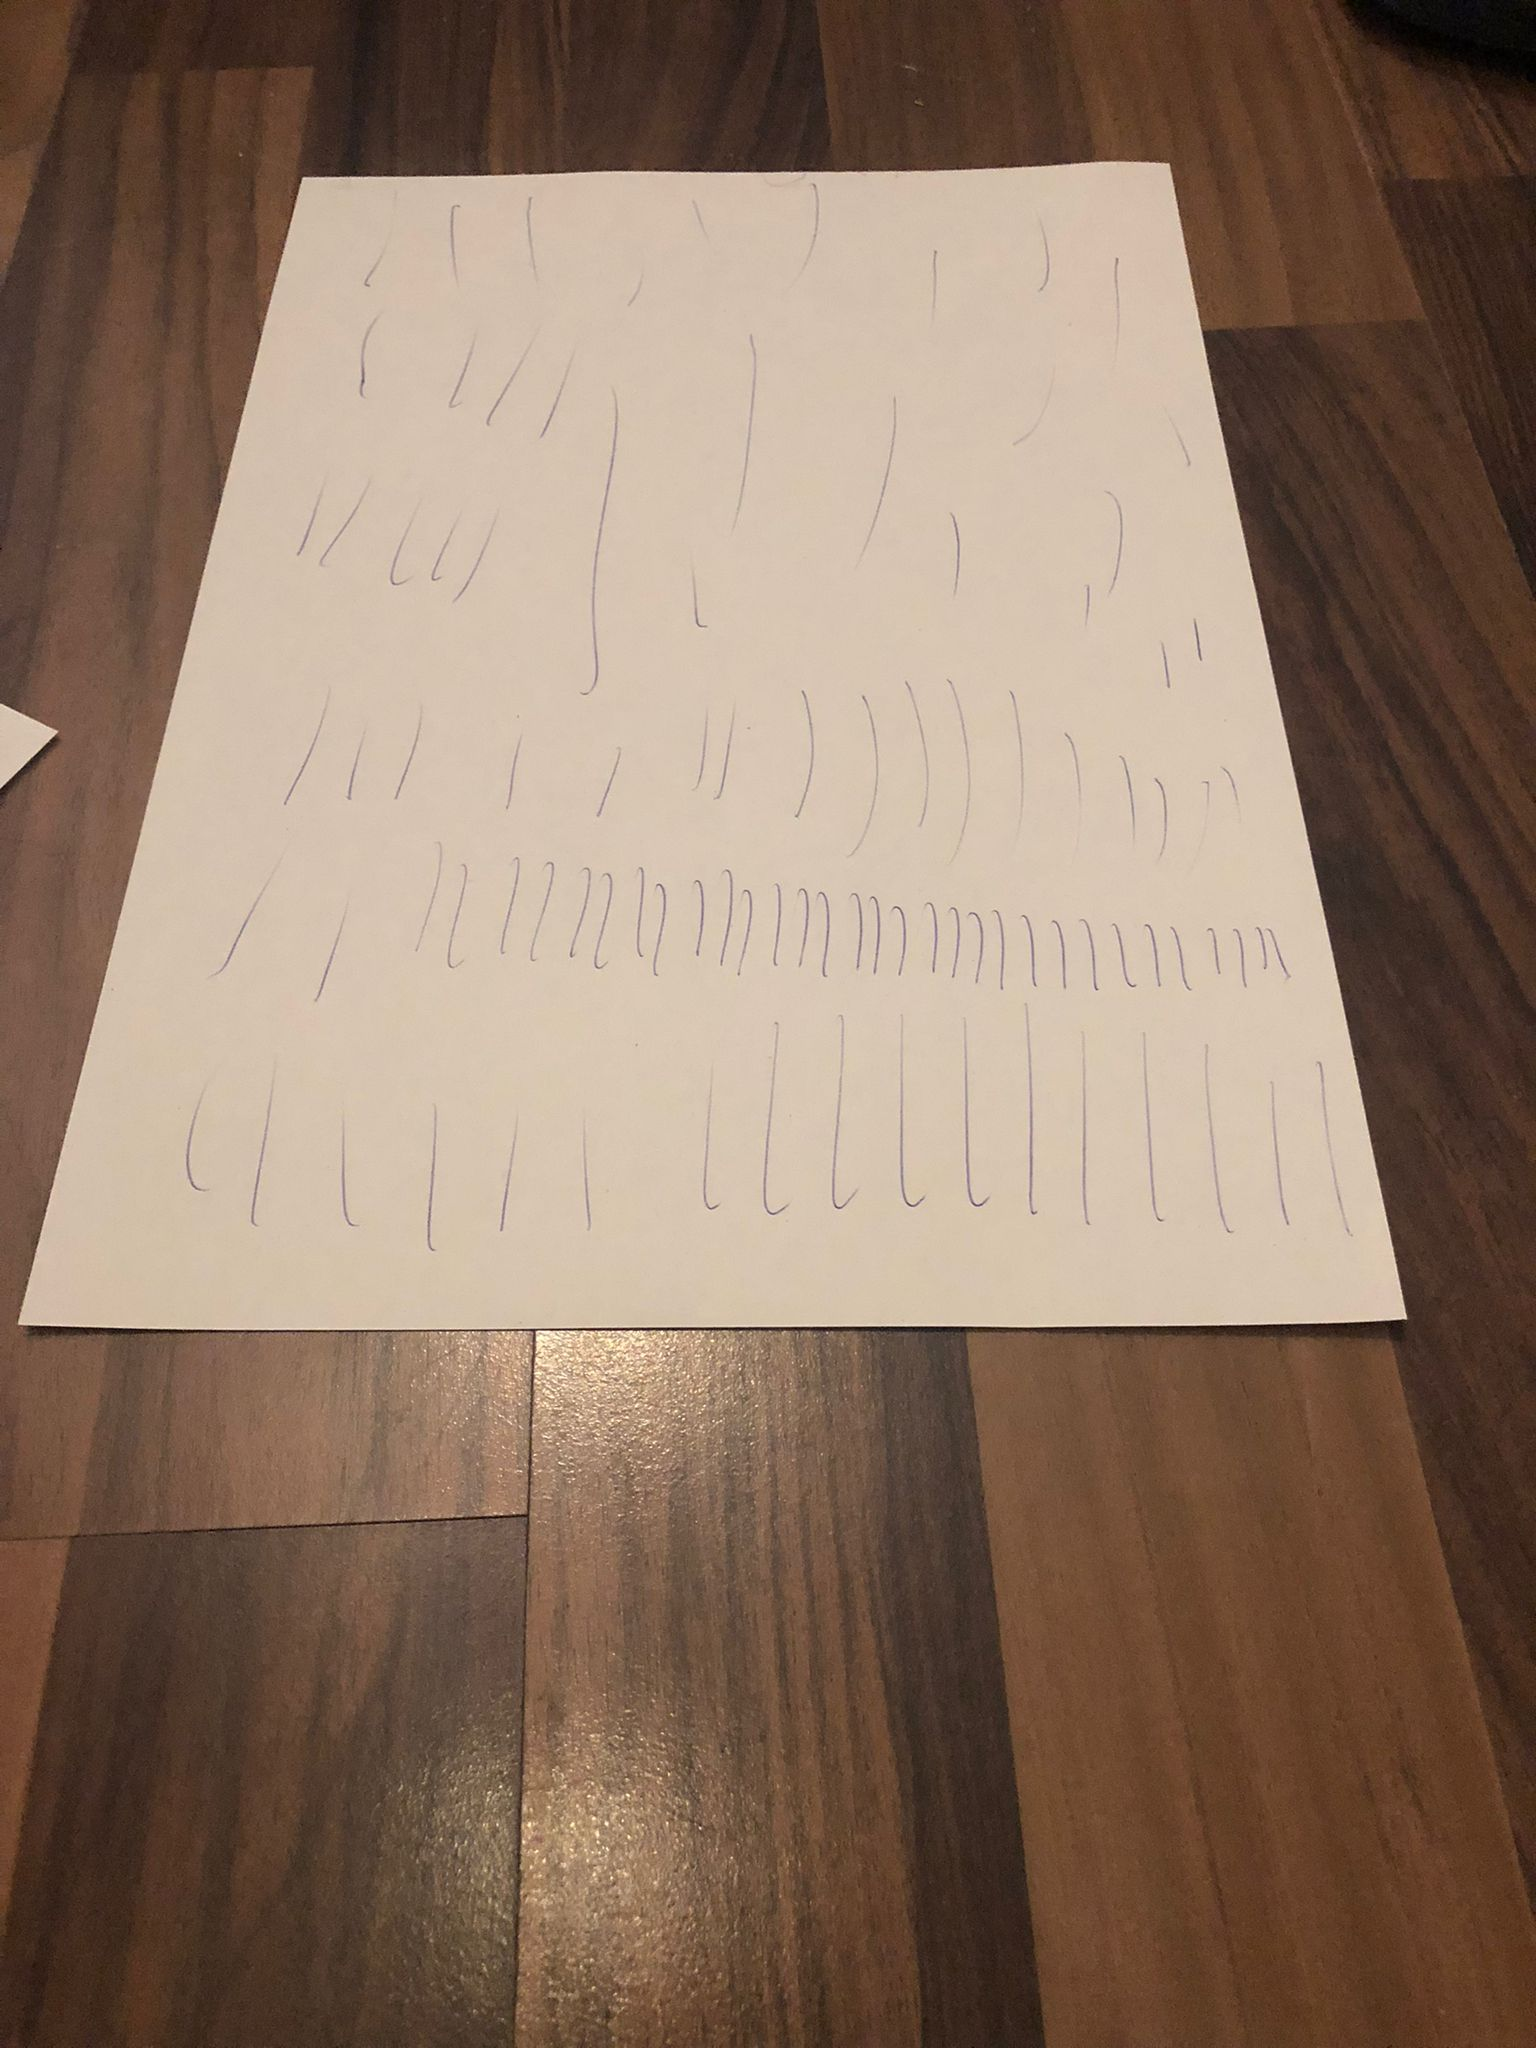Single: (579, 377, 624, 703), (758, 1006, 803, 1221), (849, 389, 900, 569), (724, 324, 766, 535), (1199, 1034, 1241, 1242), (1129, 1029, 1171, 1224), (892, 1006, 931, 1214), (1013, 993, 1049, 1218), (828, 1009, 866, 1214), (954, 1013, 994, 1208), (244, 1051, 287, 1229), (179, 1050, 227, 1200), (942, 672, 976, 868), (845, 687, 883, 861), (1258, 1072, 1297, 1230), (1310, 1056, 1342, 1243), (1068, 1014, 1096, 1230), (779, 684, 821, 819), (900, 676, 936, 830), (326, 1092, 363, 1232), (697, 1056, 728, 1218), (490, 1100, 528, 1230), (357, 184, 402, 287), (1008, 360, 1060, 448), (787, 176, 828, 287), (265, 839, 294, 989), (1002, 685, 1031, 835), (419, 1092, 445, 1255), (311, 679, 342, 813), (570, 1106, 600, 1238), (1058, 726, 1086, 863), (352, 305, 390, 402), (1099, 487, 1129, 603), (520, 321, 549, 434), (1112, 747, 1141, 850), (1186, 776, 1213, 879), (413, 489, 440, 589), (487, 500, 511, 613), (518, 189, 547, 282), (353, 468, 379, 572), (682, 548, 715, 632), (1028, 205, 1055, 298), (561, 343, 586, 443), (453, 856, 474, 969), (444, 198, 470, 289), (1147, 772, 1171, 868), (337, 895, 358, 1005), (460, 324, 487, 406), (599, 868, 620, 972), (413, 698, 434, 803), (1108, 248, 1126, 366), (1155, 398, 1181, 476), (724, 698, 744, 801), (812, 885, 833, 980), (544, 855, 561, 964), (432, 837, 449, 955), (944, 506, 965, 597), (503, 727, 526, 811), (737, 884, 757, 977), (989, 906, 1010, 990), (918, 897, 941, 974), (511, 851, 528, 959), (1168, 922, 1192, 993), (718, 863, 734, 968), (650, 877, 666, 980), (1075, 918, 1096, 995), (1013, 914, 1034, 992), (887, 901, 908, 979), (925, 244, 944, 326), (1046, 918, 1066, 992), (453, 505, 473, 584), (865, 892, 883, 977), (845, 889, 863, 974), (792, 882, 810, 968), (360, 718, 378, 801), (766, 877, 783, 969), (1218, 764, 1239, 834), (689, 872, 705, 959), (631, 863, 645, 958), (579, 863, 594, 958), (966, 908, 984, 985), (611, 742, 629, 819), (323, 469, 337, 561), (1229, 926, 1250, 989), (1107, 921, 1125, 995), (700, 701, 715, 792), (945, 901, 962, 980), (1263, 927, 1283, 989), (624, 263, 649, 310), (1141, 921, 1157, 990), (1204, 924, 1225, 977), (1155, 635, 1175, 692), (1189, 614, 1208, 664), (686, 197, 702, 242), (1079, 581, 1094, 631), (1254, 922, 1263, 974)
